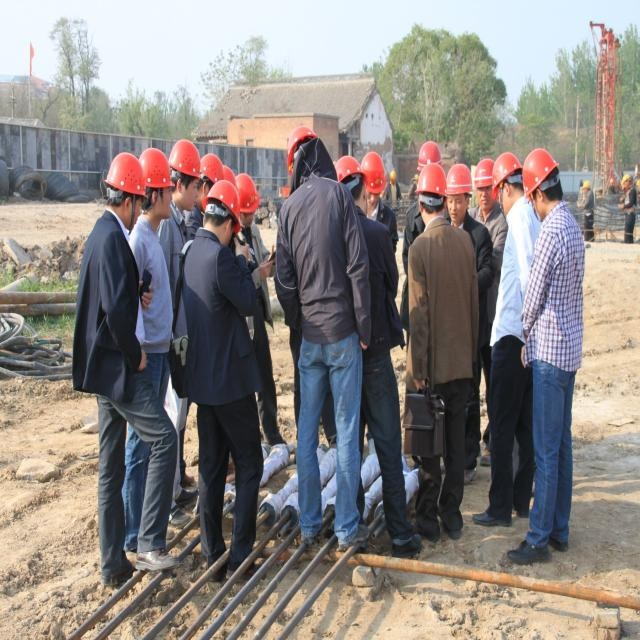Con_Casco: (108, 150, 144, 222), (204, 177, 240, 240)
Sin_Chaleco: (277, 186, 363, 328)
